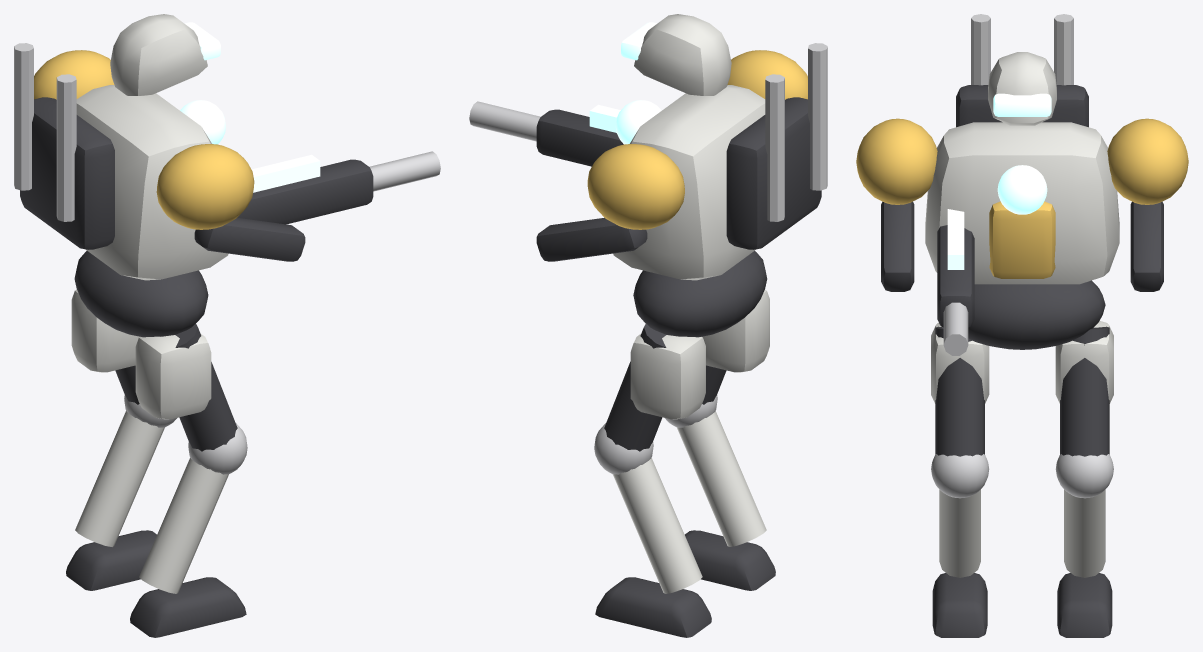
Rendered from rob_rifle.glb.
3 renders of one model, left to right at view 1: azimuth 30°, elevation 25°; view 2: azimuth 150°, elevation 25°; view 3: azimuth 270°, elevation 25°, orthographic. The views are drawn at different scales.
Visible parts, largest first — view 1: torso_m, knee_r_m, knee_l_m, leg_r_m, leg_l_m; view 2: torso_m, knee_l_m, knee_r_m, leg_l_m, leg_r_m; view 3: torso_m, knee_l_m, knee_r_m, leg_l_m, leg_r_m.
Part boxes in pixels (x1,y1,x2,y2): torso_m: (14,14,440,337); knee_r_m: (130,423,247,637); knee_l_m: (66,395,176,590); leg_r_m: (135,323,237,451); leg_l_m: (71,289,139,404); torso_m: (469,14,827,337); knee_l_m: (594,423,711,637); knee_r_m: (665,395,775,590); leg_l_m: (604,323,705,451); leg_r_m: (702,289,769,404); torso_m: (856,14,1188,355); knee_l_m: (1055,454,1113,637); knee_r_m: (931,454,989,637); leg_l_m: (1055,321,1113,456); leg_r_m: (931,322,989,456).
Bounding box in the file's own units: 0.492 × 0.746 × 0.4.
